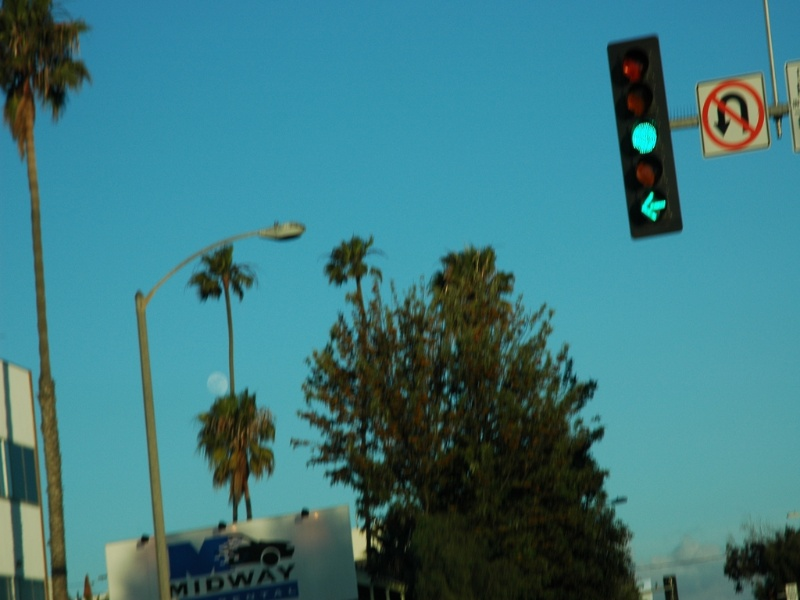green_light: (626, 116, 665, 159)
left_direction: (638, 189, 671, 225)
no_u_turn: (702, 76, 767, 151)
